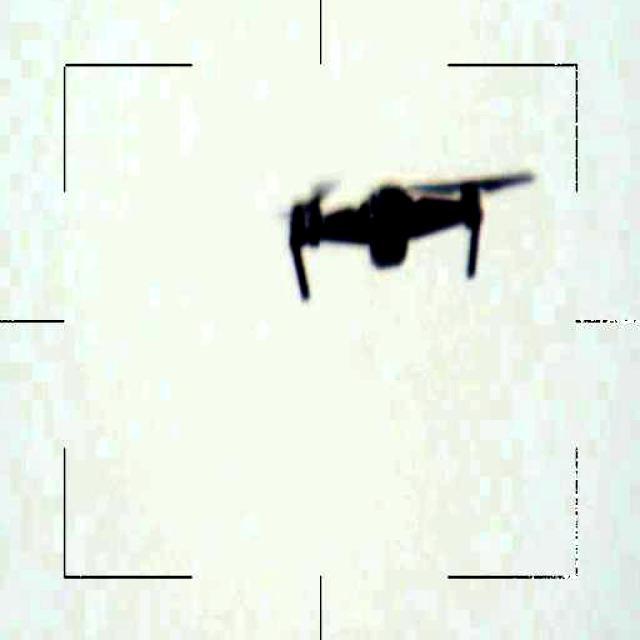bird: (266, 152, 538, 309)
